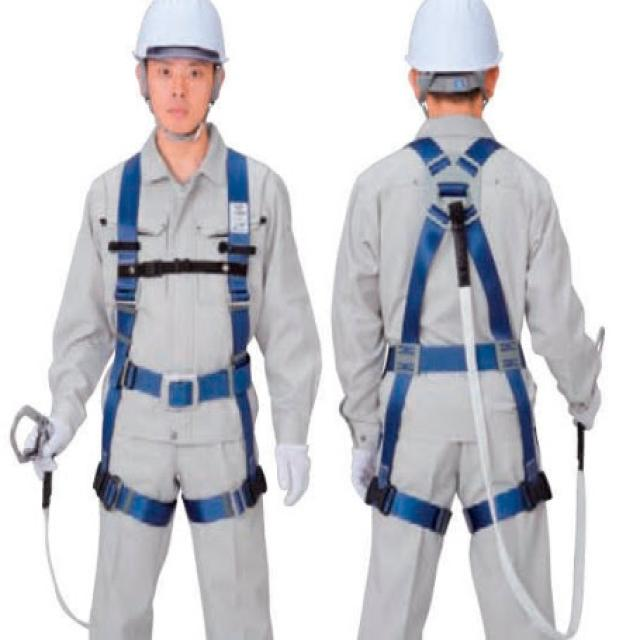harness: (420, 153, 620, 640), (9, 405, 103, 636)
